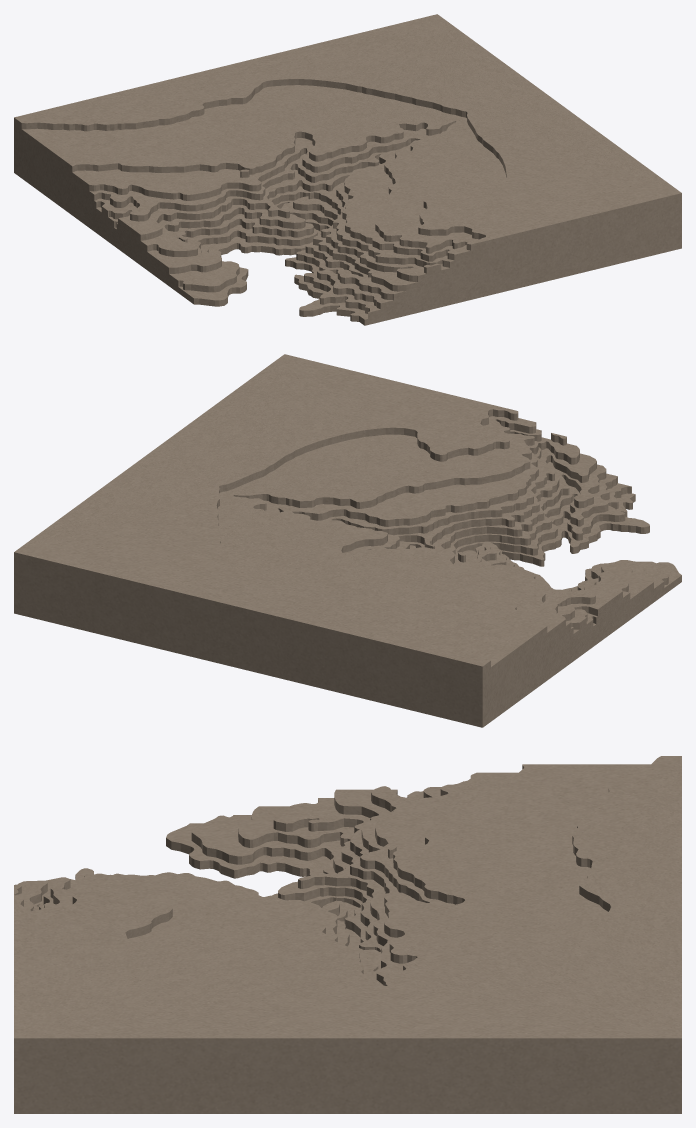
3 views of the same model, one above another, from view 1: azimuth 30°, elevation 25°; view 2: azimuth 150°, elevation 25°; view 3: azimuth 270°, elevation 25° (orthographic). The views are drawn at different scales.
Visible parts, largest first — view 1: coaster; view 2: coaster; view 3: coaster.
Boxes of the visible parts, x1,y1,x2,y2 form: coaster: (14, 14, 681, 325); coaster: (14, 354, 681, 727); coaster: (14, 756, 681, 1113).
Size of the model in its own units: 102 by 12.7 by 102.
1 material, 1 textured.
